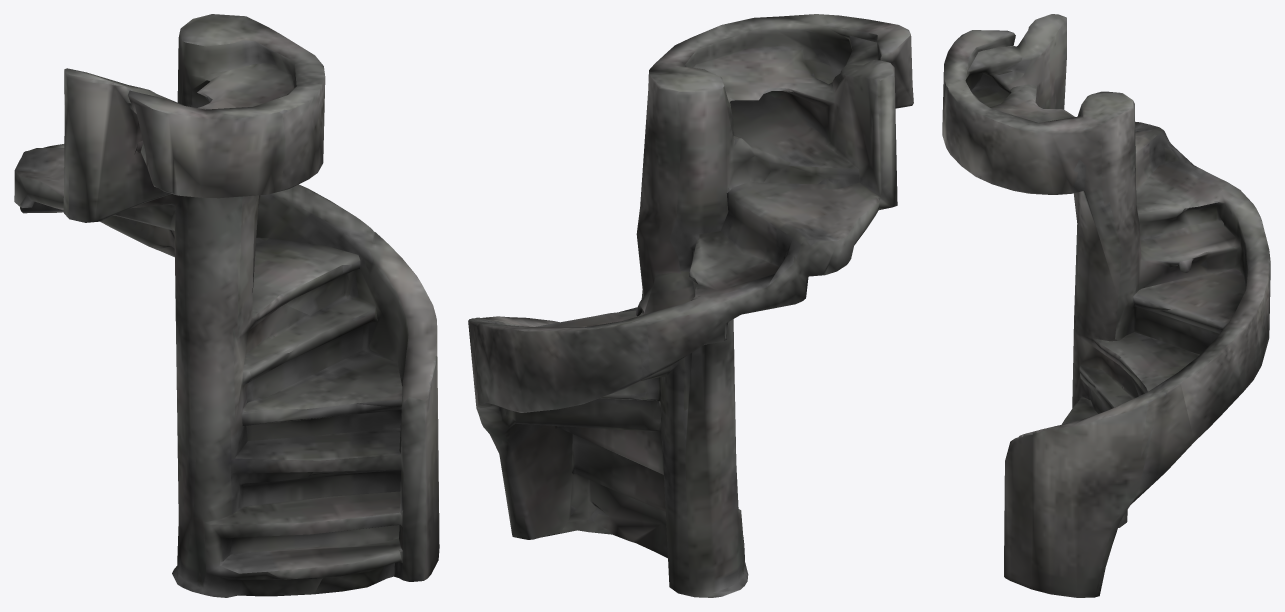
Rendered from simple-granite-spiral-staircase-v001.glb.
The picture shows the model from 3 angles, left to right: view 1: azimuth 30°, elevation 25°; view 2: azimuth 150°, elevation 25°; view 3: azimuth 270°, elevation 25°; orthographic projection. The views are drawn at different scales.
Visible parts, largest first — view 1: simple-granite-spiral-staircase; view 2: simple-granite-spiral-staircase; view 3: simple-granite-spiral-staircase.
Part boxes in pixels (x1,y1,x2,y2): simple-granite-spiral-staircase: (14, 14, 439, 597); simple-granite-spiral-staircase: (468, 14, 913, 597); simple-granite-spiral-staircase: (942, 14, 1270, 597).
Bounding box in the file's own units: 1.74 × 2.41 × 1.63.
1 material, 1 textured.
